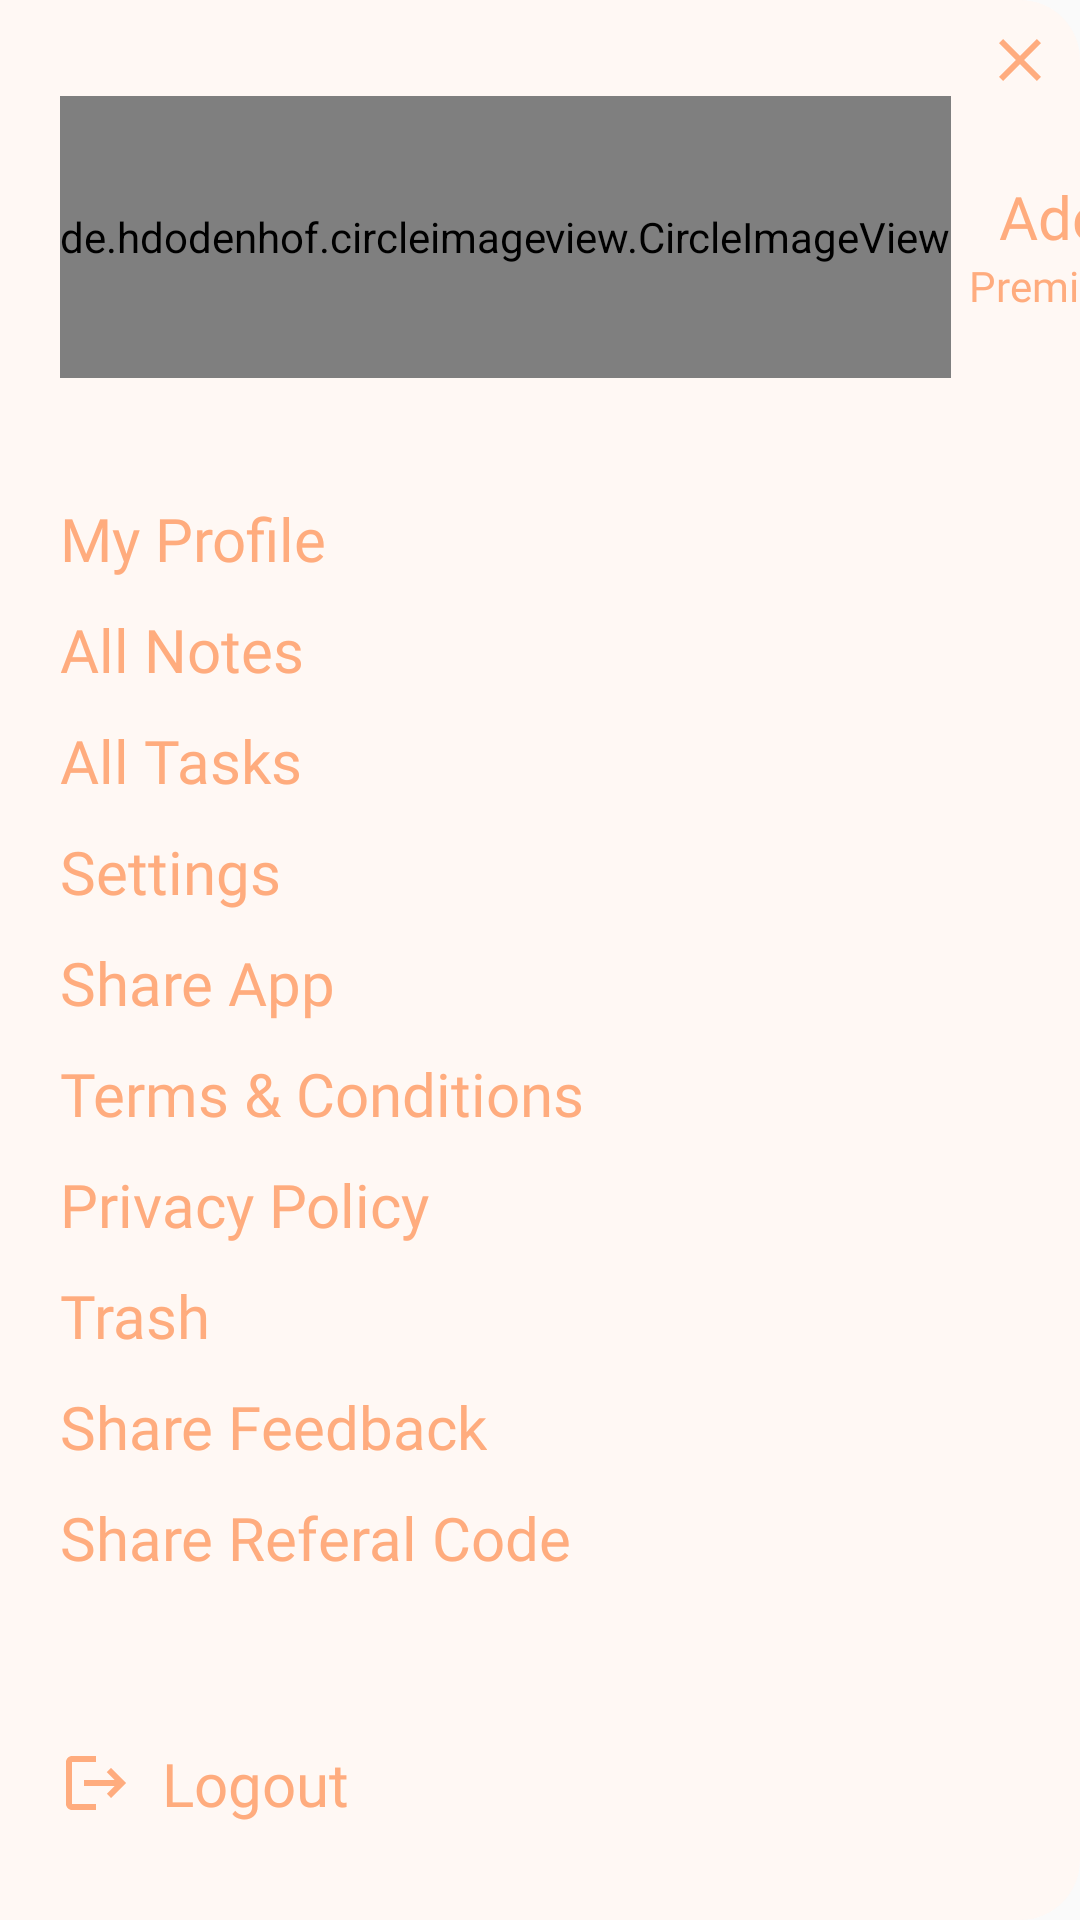

Screen size 1080px x 1920px. Icon name, then its box in pixels as (x1, y1, x2, y2):
close: (999, 39, 1041, 81)
